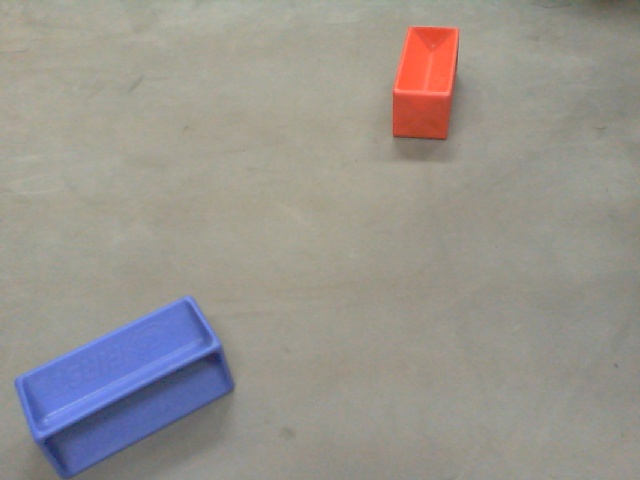BlueSample: (8, 293, 241, 479)
RedSample: (389, 25, 459, 142)
